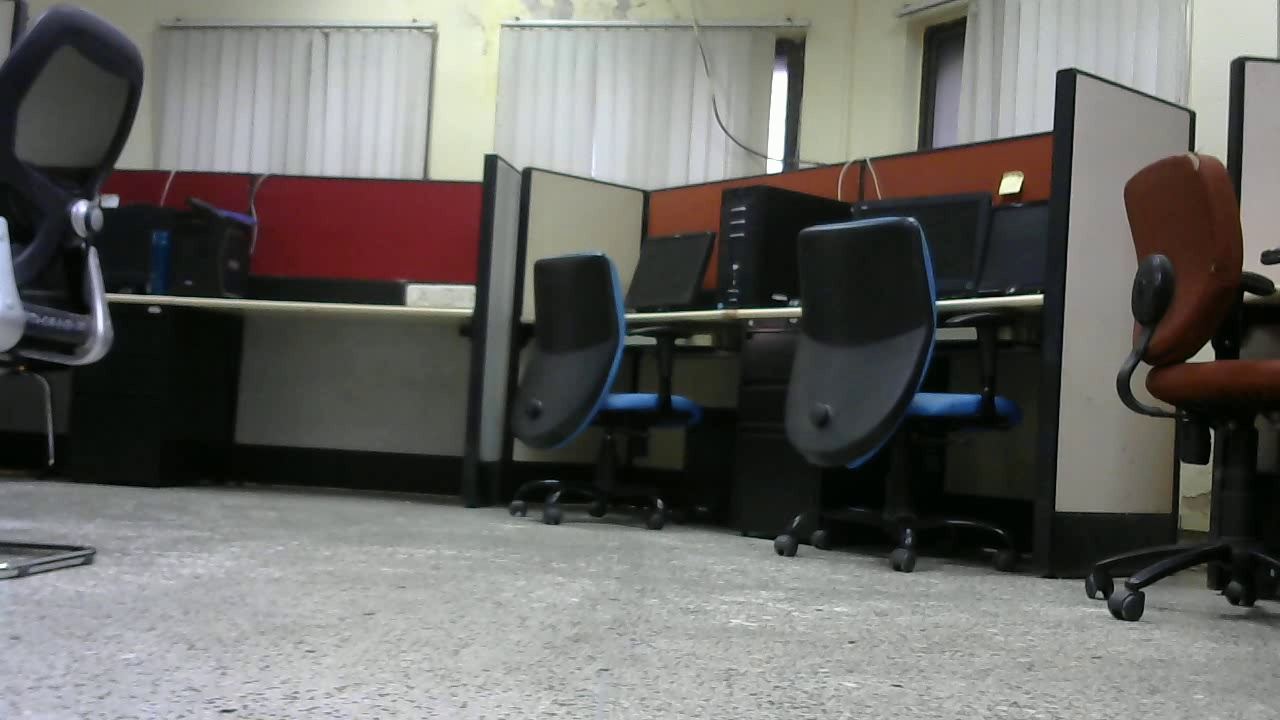chair: (779, 207, 1017, 578), (1101, 143, 1280, 619), (479, 246, 707, 534)
